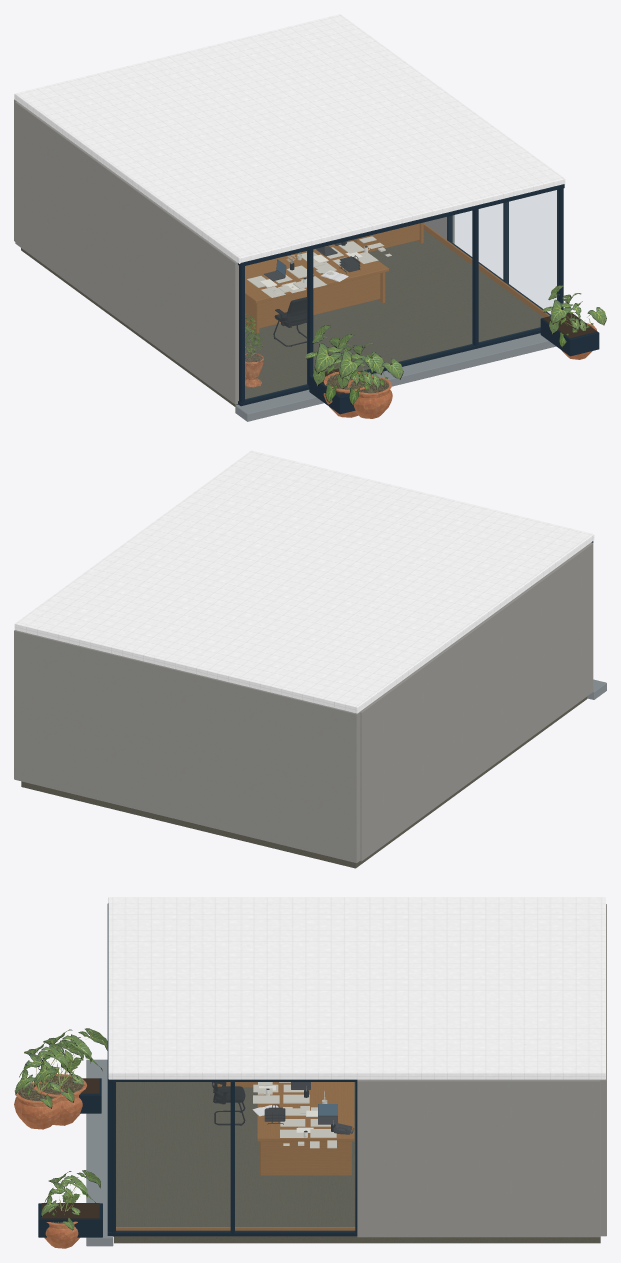
File: office.glb
3 renders of one model, top to bottom at view 1: azimuth 30°, elevation 25°; view 2: azimuth 150°, elevation 25°; view 3: azimuth 270°, elevation 25°, orthographic. The views are drawn at different scales.
Visible parts, largest first — view 1: Office_architecture, Office_floor, Office_plants, Office_furniture, Office_details; view 2: Office_architecture, Office_floor; view 3: Office_architecture, Office_floor, Office_plants, Office_furniture, Office_details.
Part boxes in pixels (bbox=[...]): Office_architecture: bbox=[14, 14, 599, 421]; Office_floor: bbox=[21, 230, 543, 406]; Office_plants: bbox=[245, 285, 606, 418]; Office_furniture: bbox=[245, 222, 423, 346]; Office_details: bbox=[247, 236, 391, 297]; Office_architecture: bbox=[14, 450, 606, 862]; Office_floor: bbox=[21, 696, 587, 868]; Office_architecture: bbox=[34, 897, 606, 1246]; Office_floor: bbox=[114, 1082, 600, 1243]; Office_plants: bbox=[14, 1028, 107, 1248]; Office_furniture: bbox=[212, 1082, 354, 1175]; Office_details: bbox=[252, 1082, 353, 1148].
Bounding box in the file's own units: 8.05 × 3.59 × 10.97.
Materials: 63 (20 with a texture image).
